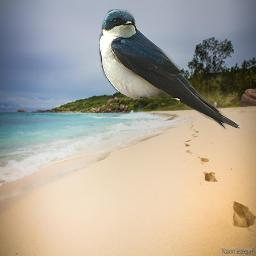Swallow: (99, 9, 241, 130)
